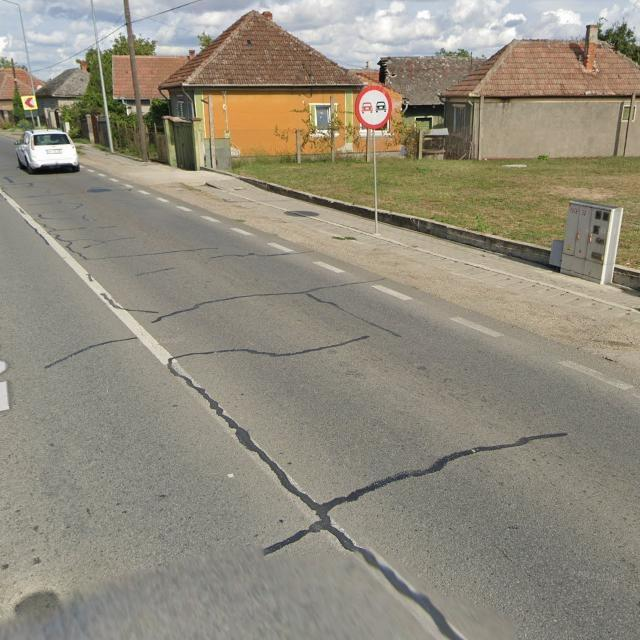forb_overtake: (355, 85, 392, 129)
